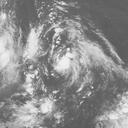cyclone: (49, 47, 85, 81)
